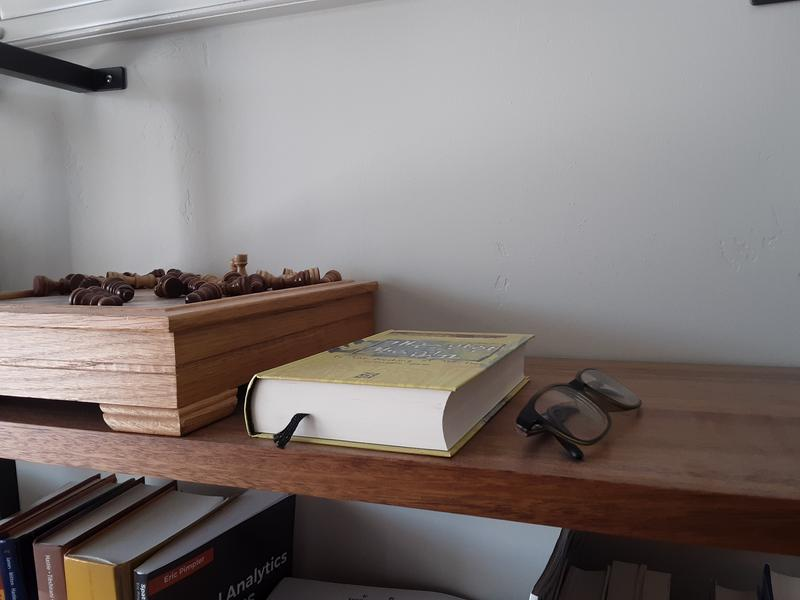glasses: (514, 367, 645, 465)
